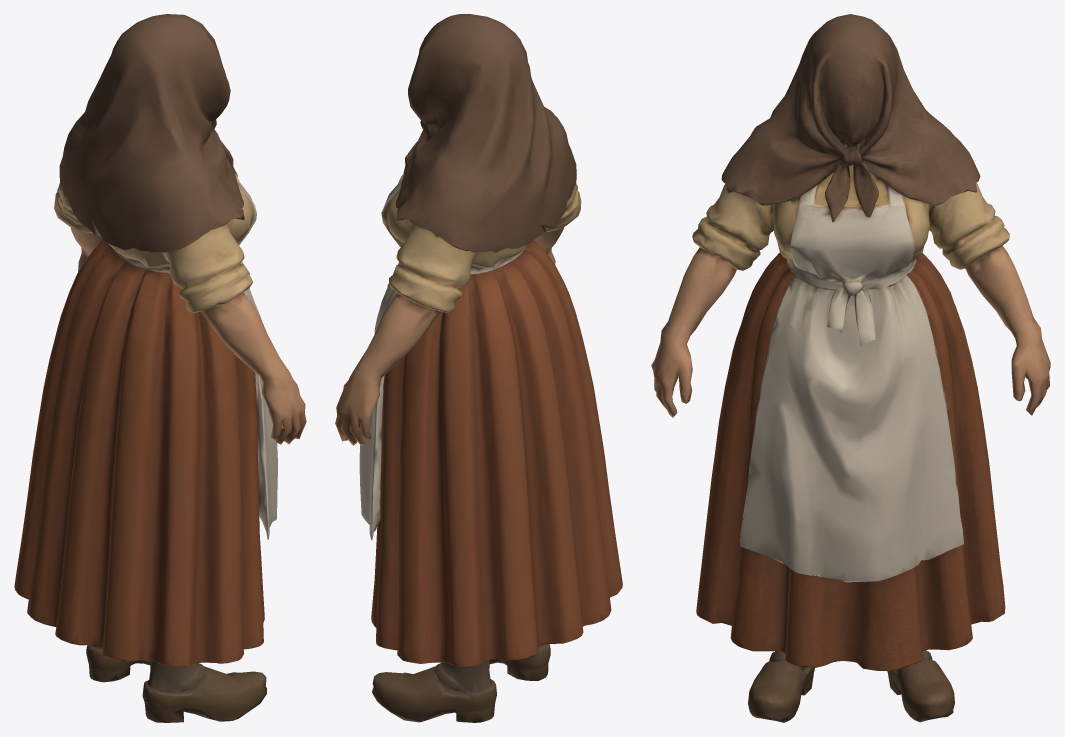
The model's file is togna-tripo-grezzo.glb.
3 views of the same model, side by side, from view 1: azimuth 30°, elevation 25°; view 2: azimuth 150°, elevation 25°; view 3: azimuth 270°, elevation 25° (orthographic).
Visible parts, largest first — view 1: tripo_node_80118f27-1210-46de-bbf5-13631f9b2b86; view 2: tripo_node_80118f27-1210-46de-bbf5-13631f9b2b86; view 3: tripo_node_80118f27-1210-46de-bbf5-13631f9b2b86.
Part boxes in pixels (x1,y1,x2,y2): tripo_node_80118f27-1210-46de-bbf5-13631f9b2b86: (14, 14, 306, 722); tripo_node_80118f27-1210-46de-bbf5-13631f9b2b86: (335, 14, 622, 722); tripo_node_80118f27-1210-46de-bbf5-13631f9b2b86: (651, 14, 1050, 722).
Bounding box in the file's own units: 0.3435 × 1 × 0.5304.
Materials: 1 (1 with a texture image).
